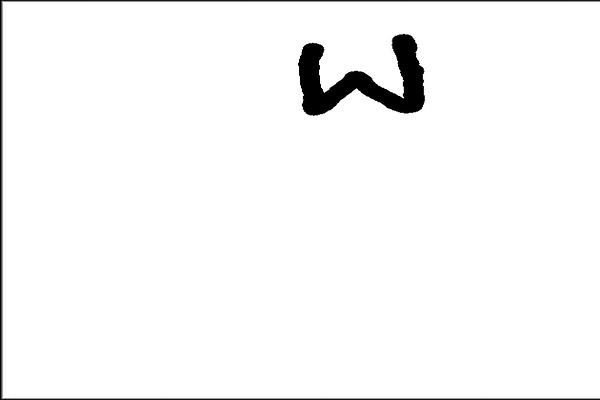w: (283, 25, 456, 153)
